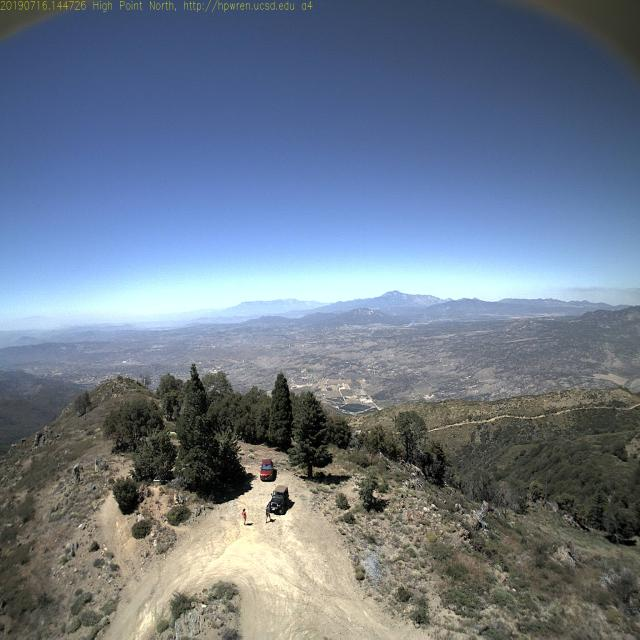smoke: (392, 308, 426, 344)
